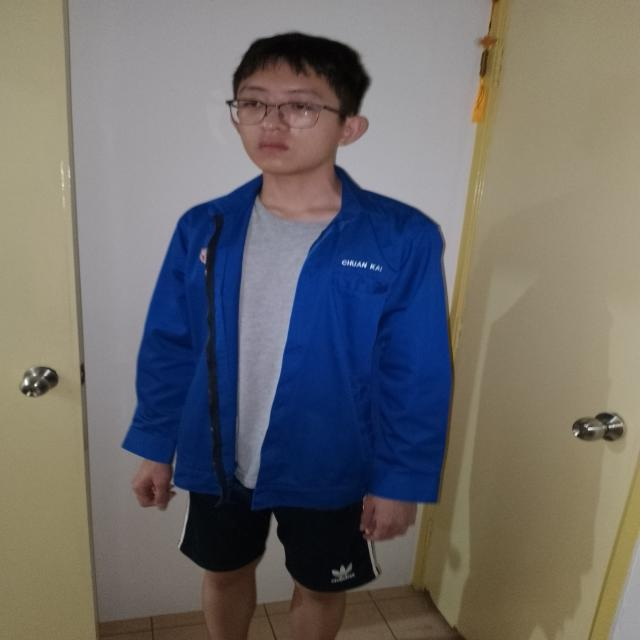person_with_labcoat: (123, 33, 451, 640)
